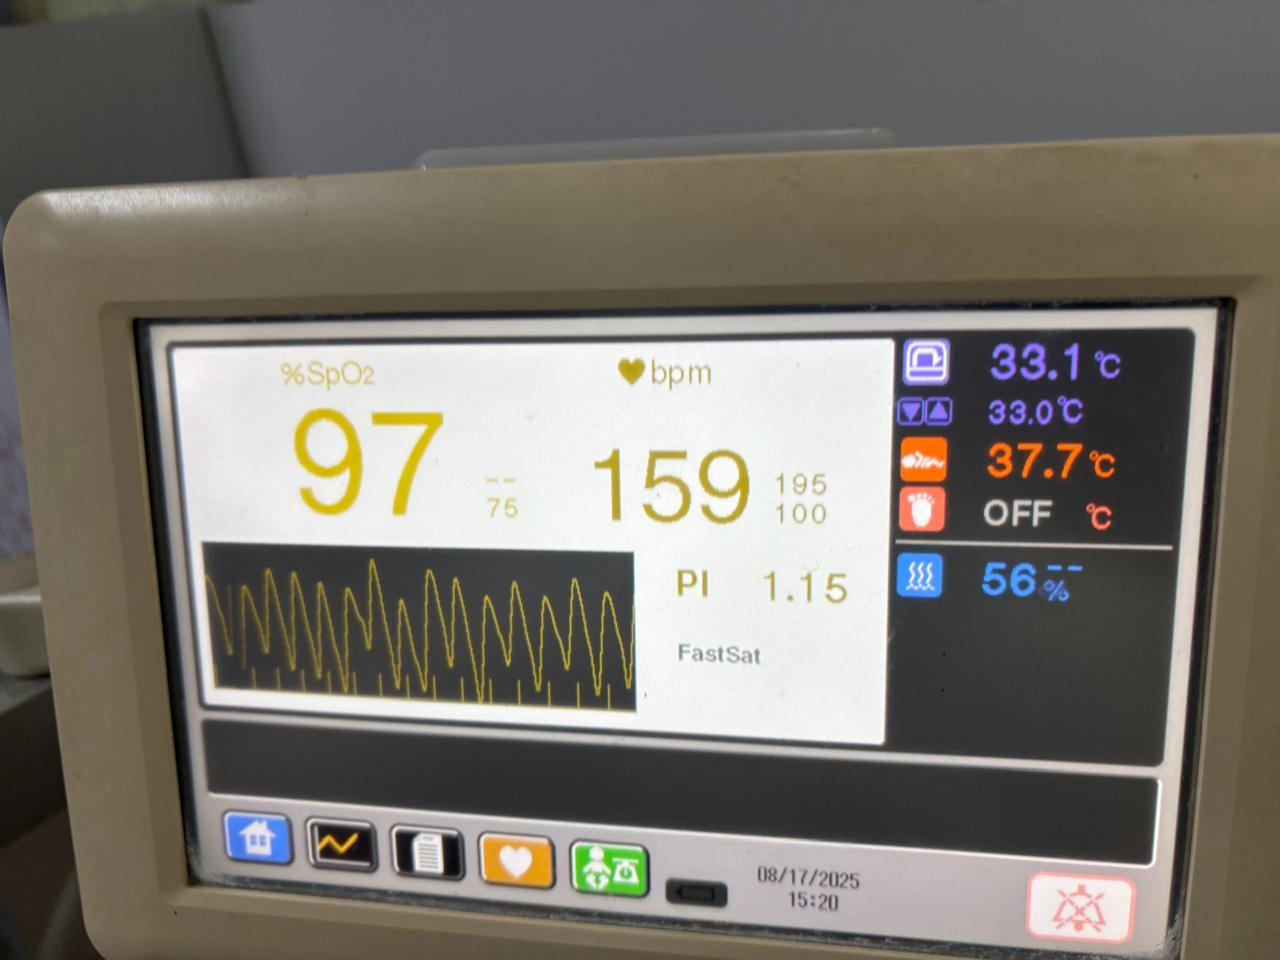heart_rate_value: (580, 425, 760, 545)
humidity_value: (963, 545, 1043, 610)
skin_temp_value: (969, 433, 1087, 494)
spo2_value: (274, 392, 454, 531)
